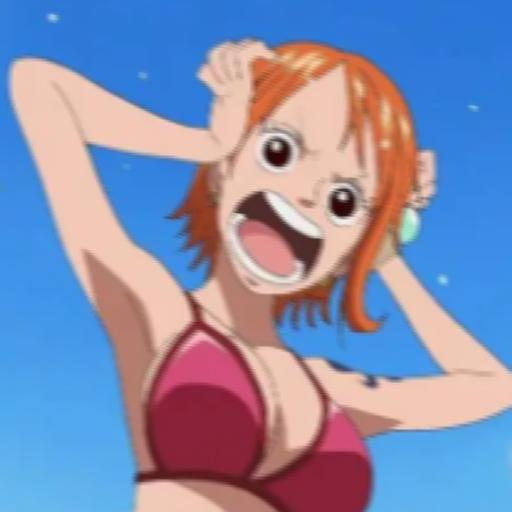Nami: (1, 27, 512, 512)
